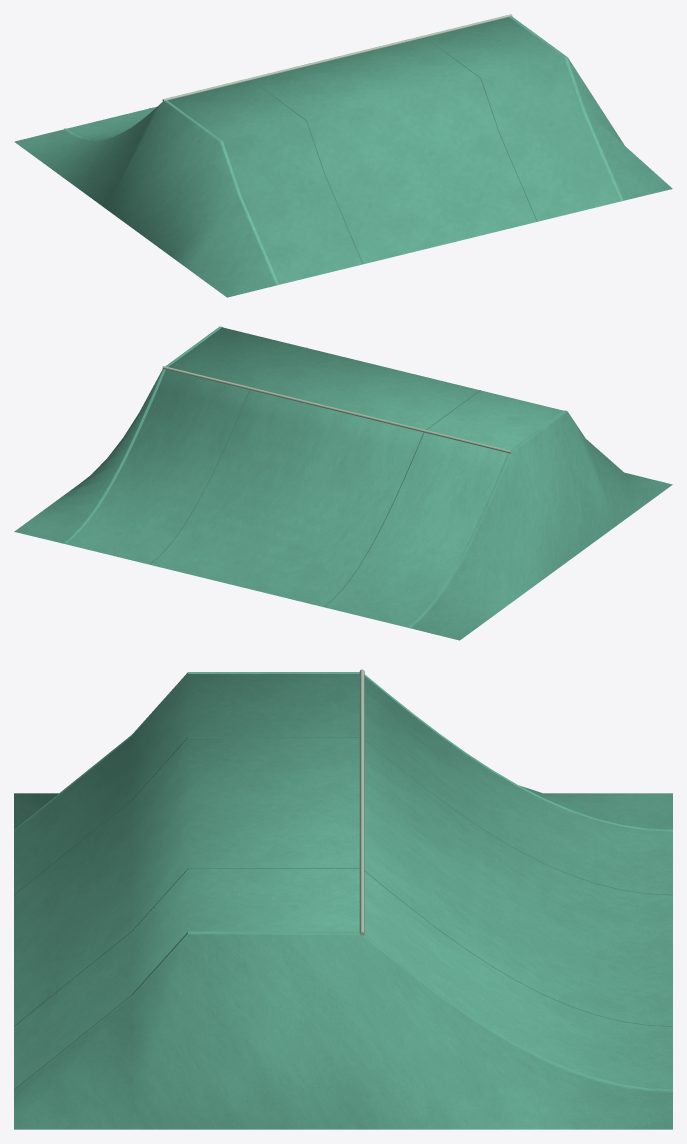
Rendered from quarterpipe.glb.
3 views of the same model, one above another, from view 1: azimuth 30°, elevation 25°; view 2: azimuth 150°, elevation 25°; view 3: azimuth 270°, elevation 25° (orthographic). The views are drawn at different scales.
Parts seen in each view (by area): view 1: quarterpipe; view 2: quarterpipe; view 3: quarterpipe.
Part boxes in pixels (x1,y1,x2,y2): quarterpipe: [14, 14, 672, 297]; quarterpipe: [14, 326, 672, 640]; quarterpipe: [14, 669, 672, 1129].
Bounding box in the file's own units: 12.8 × 2.86 × 10.6.
Materials: 2 (1 with a texture image).
